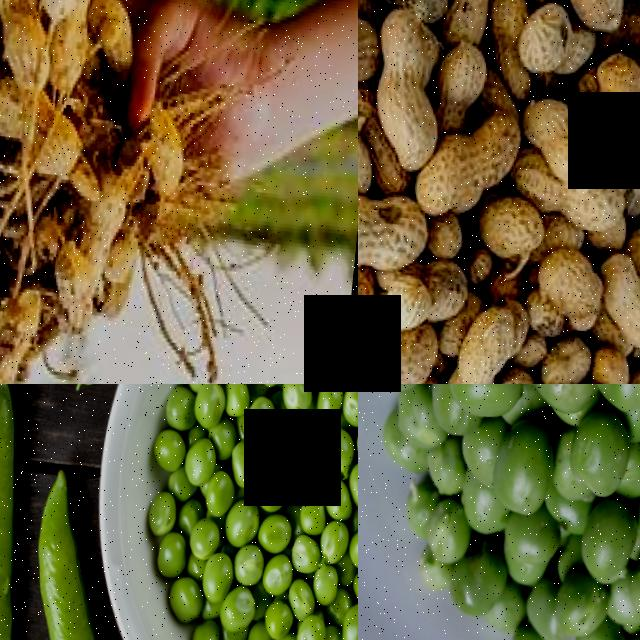peanuts: (371, 8, 444, 138), (414, 123, 509, 220), (534, 242, 605, 319), (512, 0, 581, 79), (450, 303, 517, 384), (358, 183, 410, 283), (477, 195, 546, 266), (0, 4, 51, 93), (589, 48, 640, 137), (381, 323, 440, 384), (599, 261, 640, 347), (550, 0, 632, 36), (358, 10, 381, 88)
peas: (358, 384, 640, 640), (147, 384, 358, 640)
